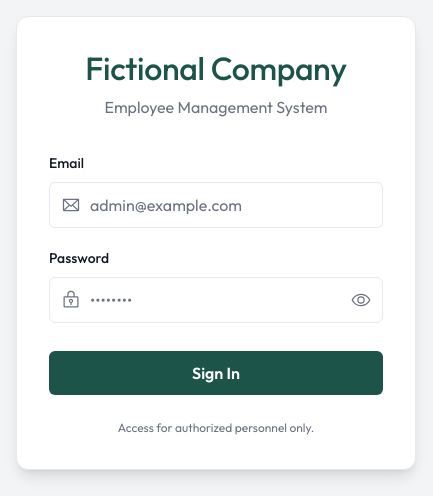
LoginPage › Form Submission › shows loading state during submission
The image size is (433, 496).
Type "test@example.com" into the field labelled "Email".
click(216, 205); type("test@example.com")  # box [49,182,383,228]
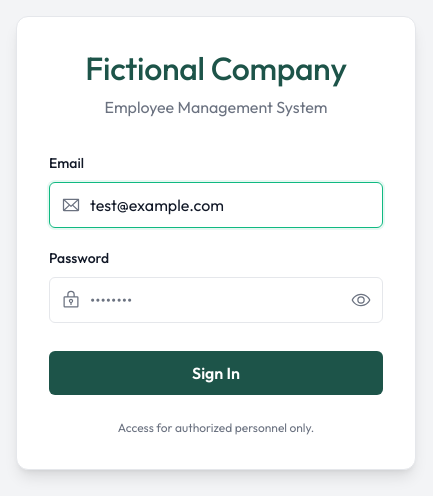
Type "password123" into the password field labelled "Password".
click(216, 300); type("password123")  # box [49,277,383,323]
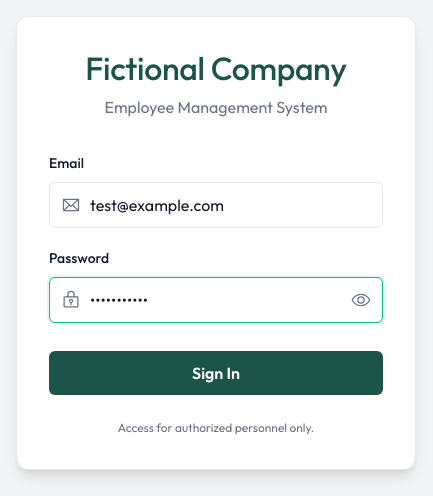
Click the button "Sign In".
click(216, 373)  # box [49,351,383,395]
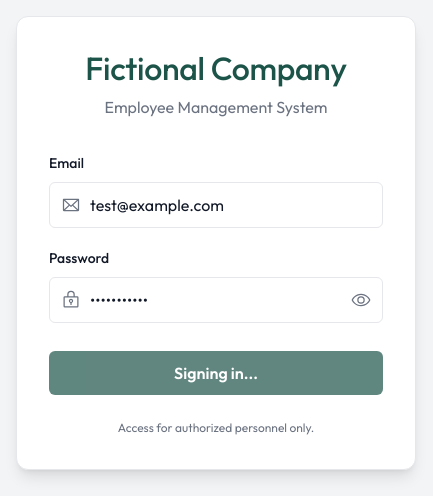
Check: the button "Signing in..." is shown, box [49,351,383,395]
